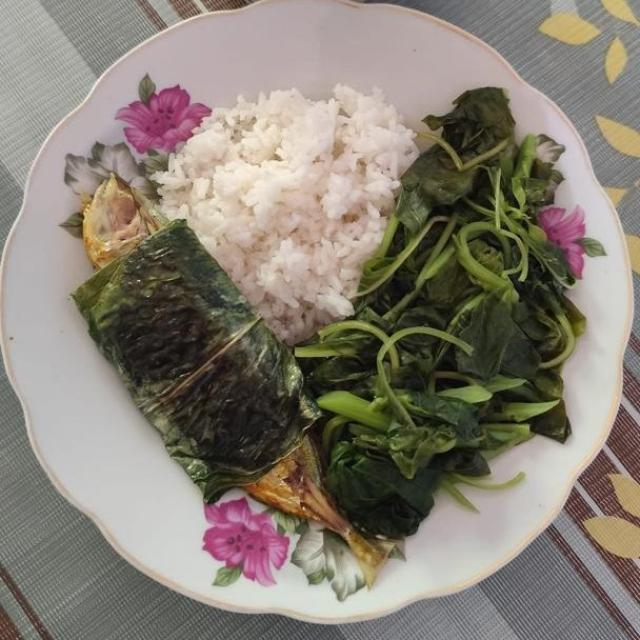Fish: (68, 170, 404, 592)
Plate: (0, 0, 629, 620)
Rice: (154, 87, 422, 344)
Vegetables: (66, 84, 591, 537)
